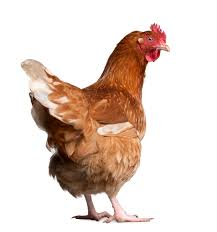chicken: (20, 9, 181, 228)
